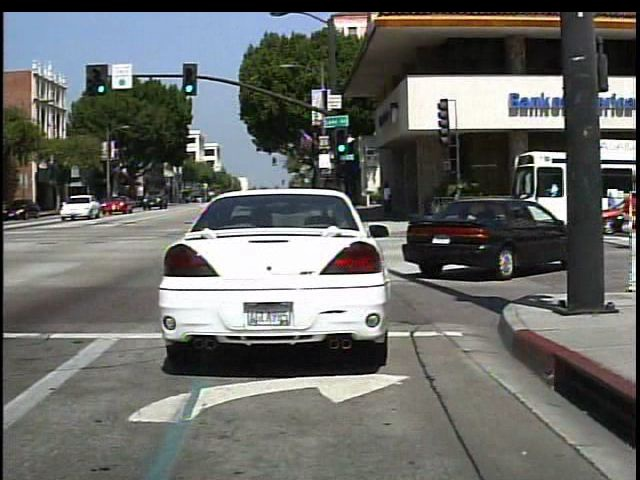person: (380, 178, 398, 219)
